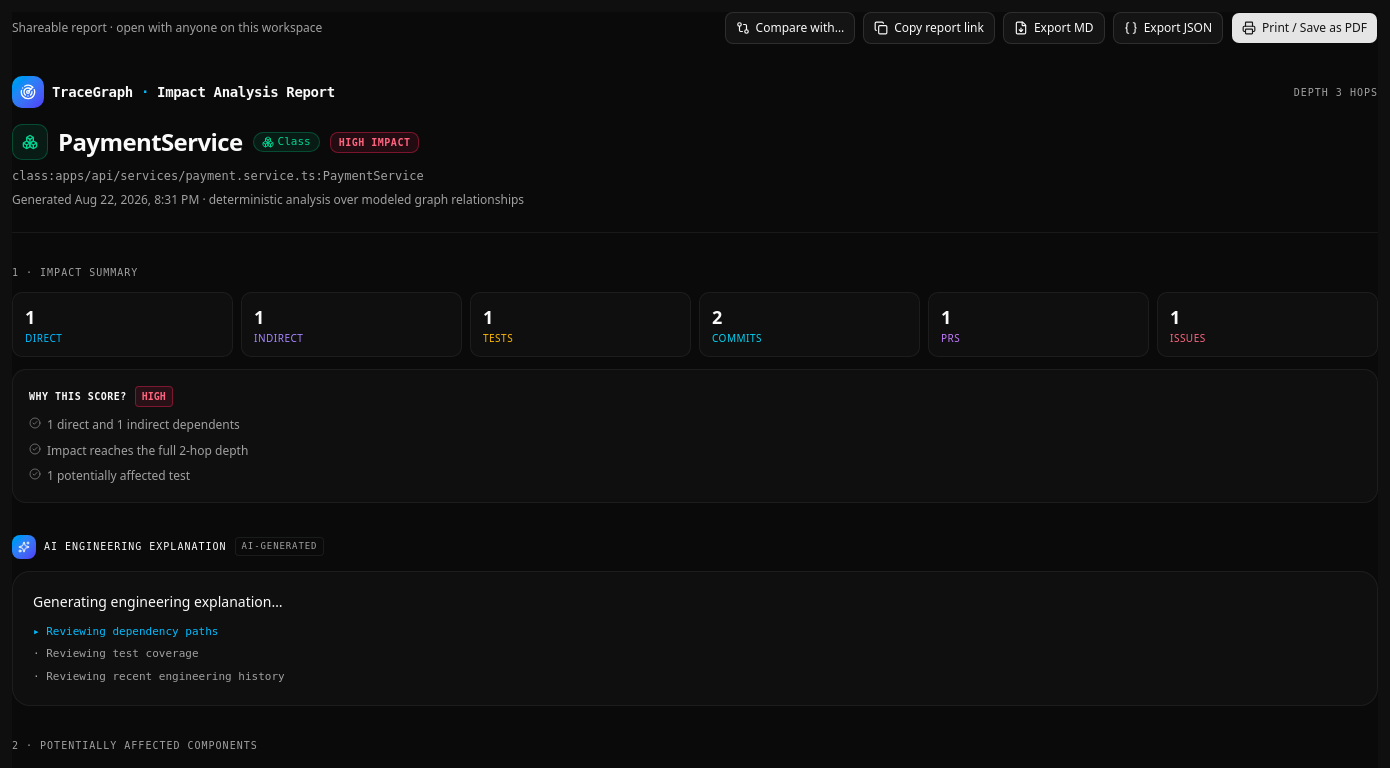
Scenario: ImpactReport › copies the report link and confirms it
The image size is (1390, 768).
expect the heading "PaymentService" is shown: met, box [58,126,243,158]
Click the button "Copy report link": [929, 28] box [863,12,995,44]
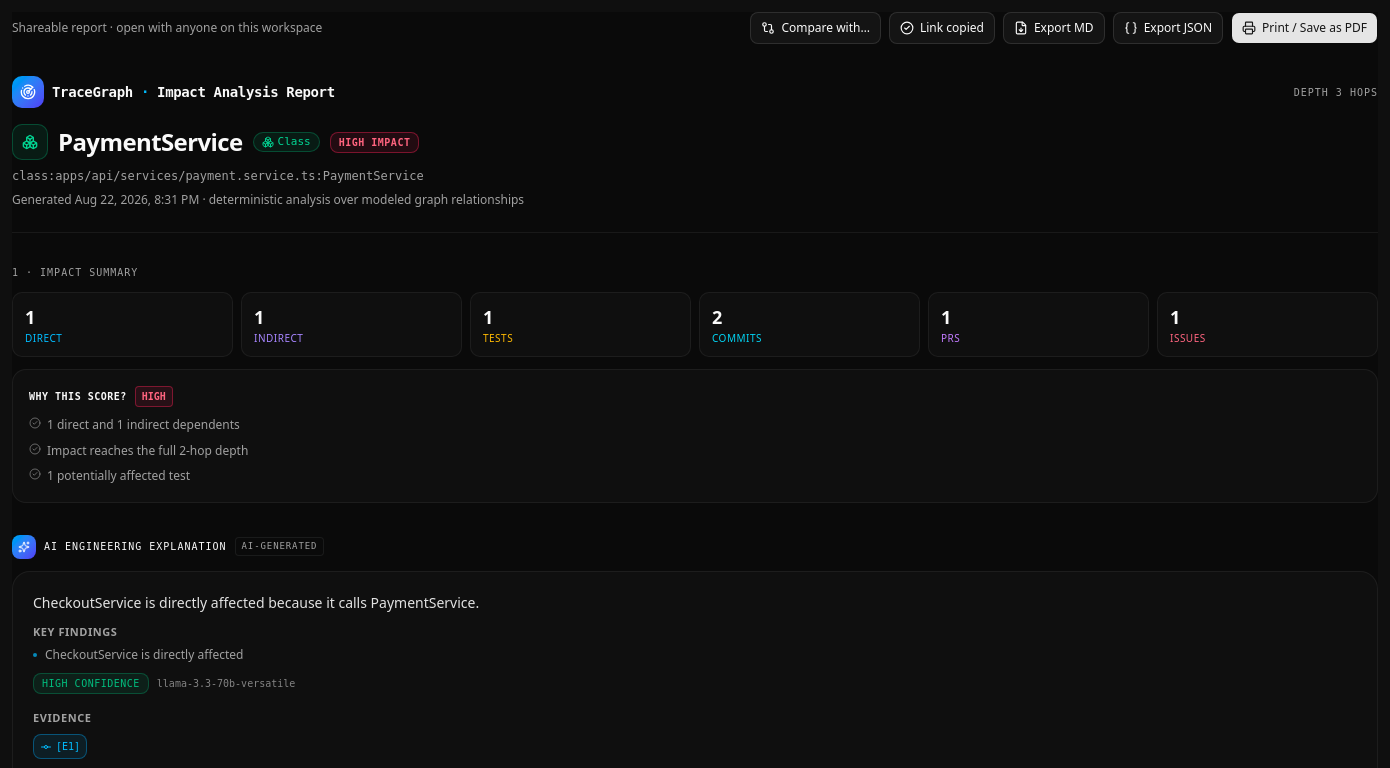
expect the button "Link copied" is shown: met, box [889,12,995,44]
